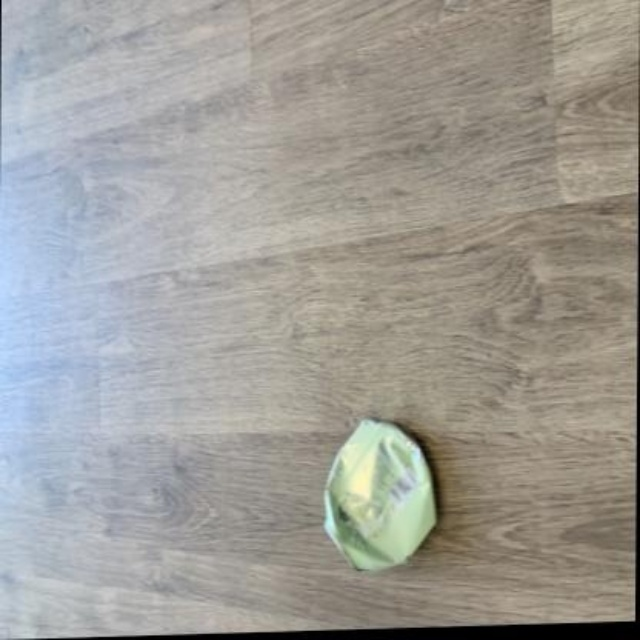trash: (325, 418, 435, 568)
